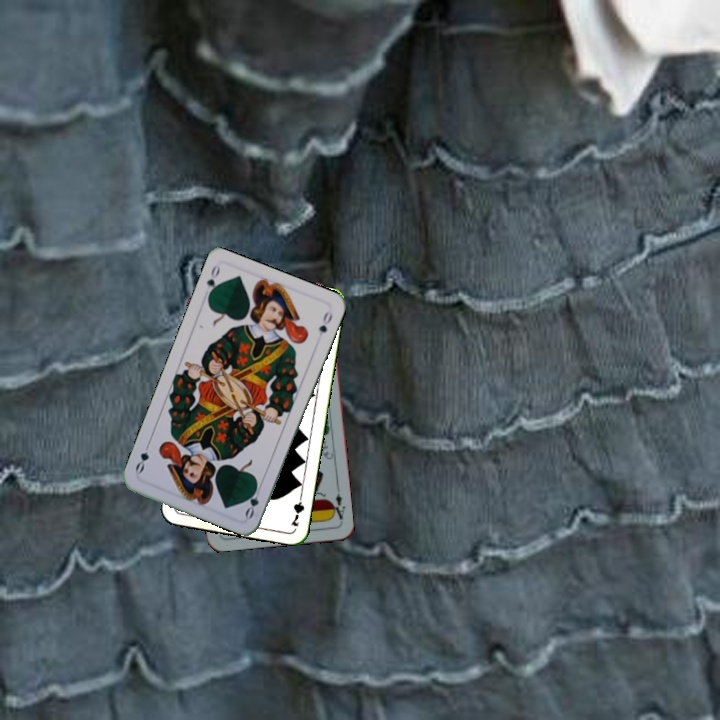EA: (327, 484, 348, 525)
G7: (287, 489, 307, 529)
GO: (241, 480, 264, 521), (202, 261, 223, 302)
